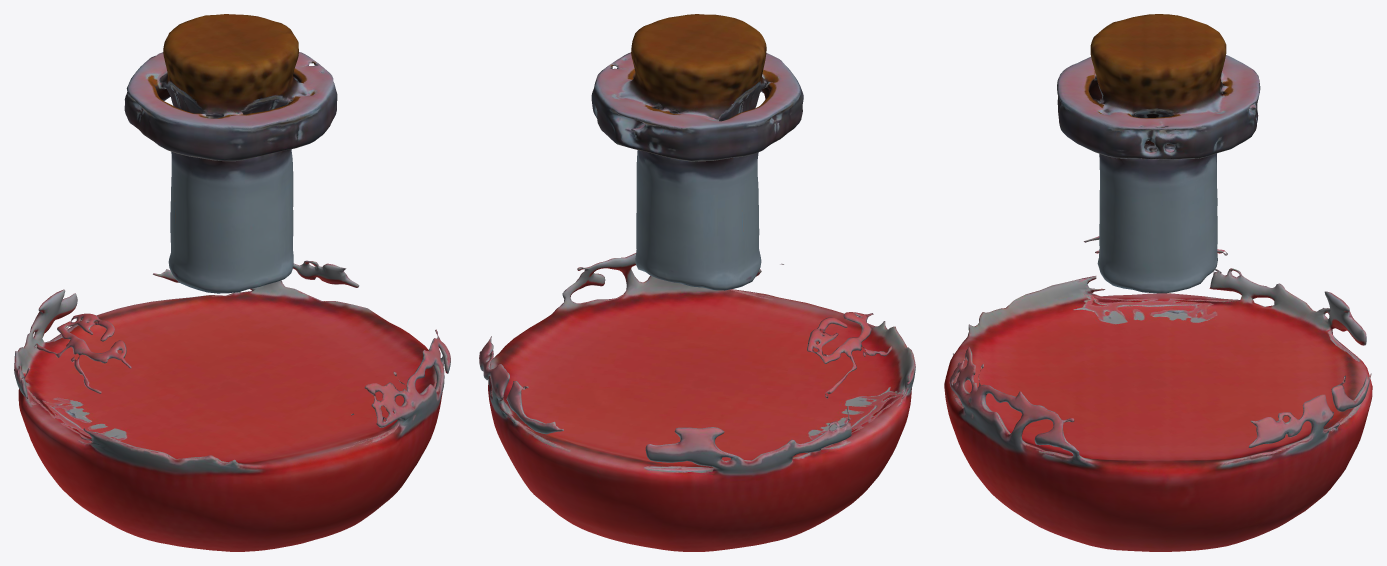
The model's file is ccc112245443_Create_a_detailed_i.fbx.
3 views of the same model, side by side, from view 1: azimuth 30°, elevation 25°; view 2: azimuth 150°, elevation 25°; view 3: azimuth 270°, elevation 25° (orthographic).
Visible parts, largest first — view 1: mesh; view 2: mesh; view 3: mesh.
Boxes of the visible parts, x1,y1,x2,y2 form: mesh: [14, 14, 450, 551]; mesh: [479, 14, 915, 551]; mesh: [944, 14, 1372, 551].
Bounding box in the file's own units: 83.97 × 99.93 × 83.95.
